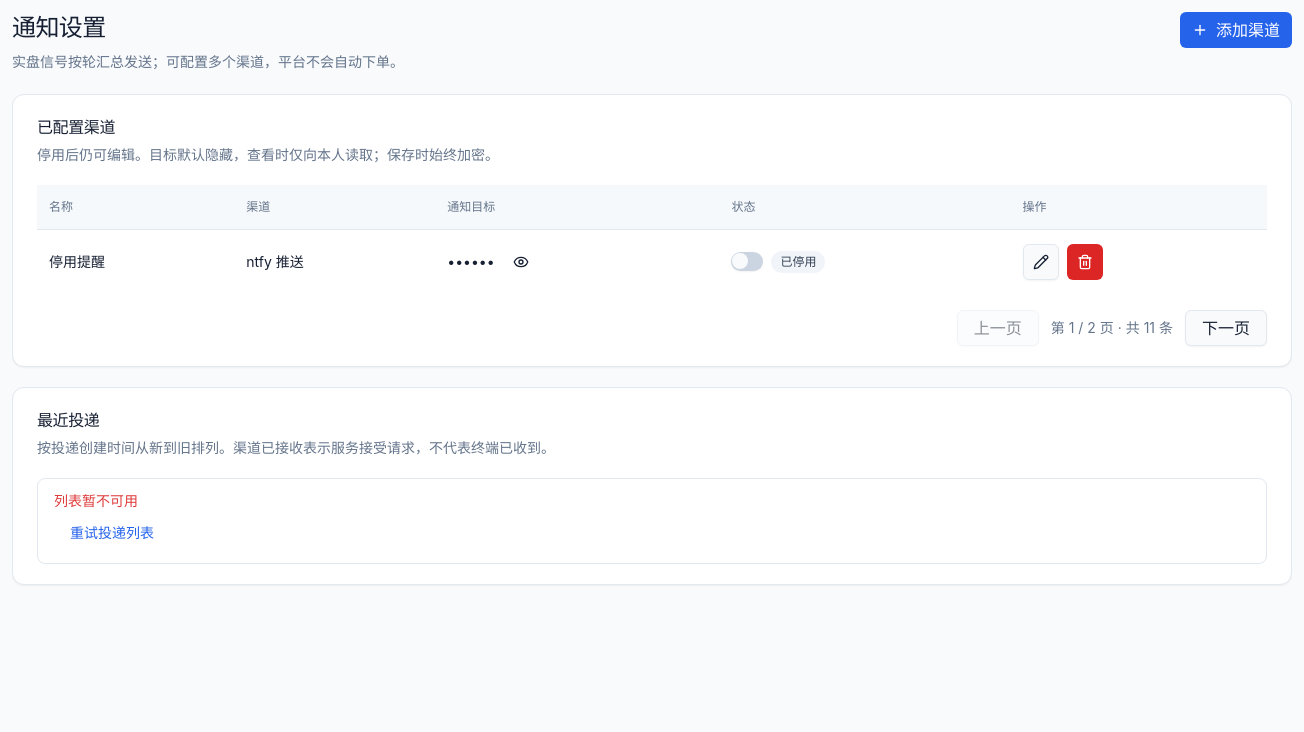
Test: 渠道和投递独立分页，目标按需显示再隐藏，读取失败可重试
expect the message shows "列表暂不可用": met, box [54, 492, 138, 508]
Step 1. Click the button "重试投递列表" → (112, 532), box [54, 514, 170, 550]
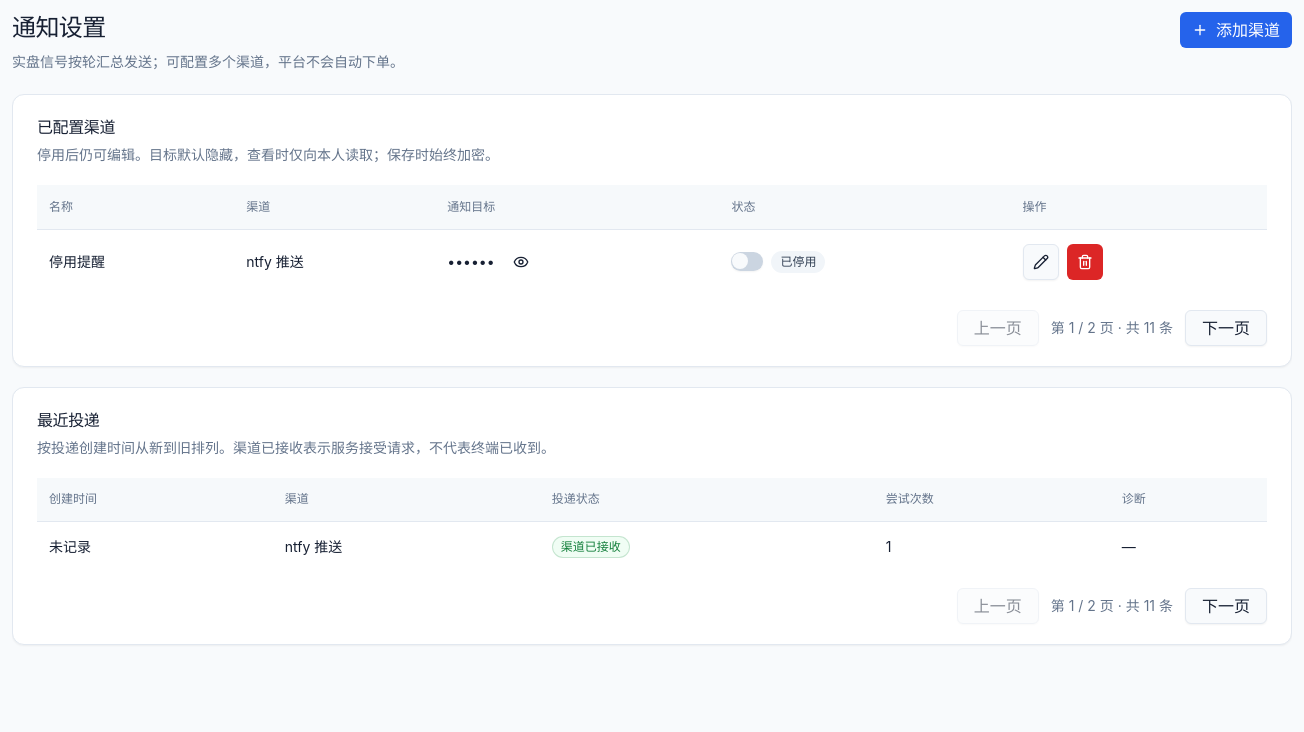
expect the text "渠道已接收" is shown: met, box [552, 536, 630, 558]
Step 2. Click the button named "显示通知目标 停用提醒" → (520, 262), box [502, 244, 538, 280]
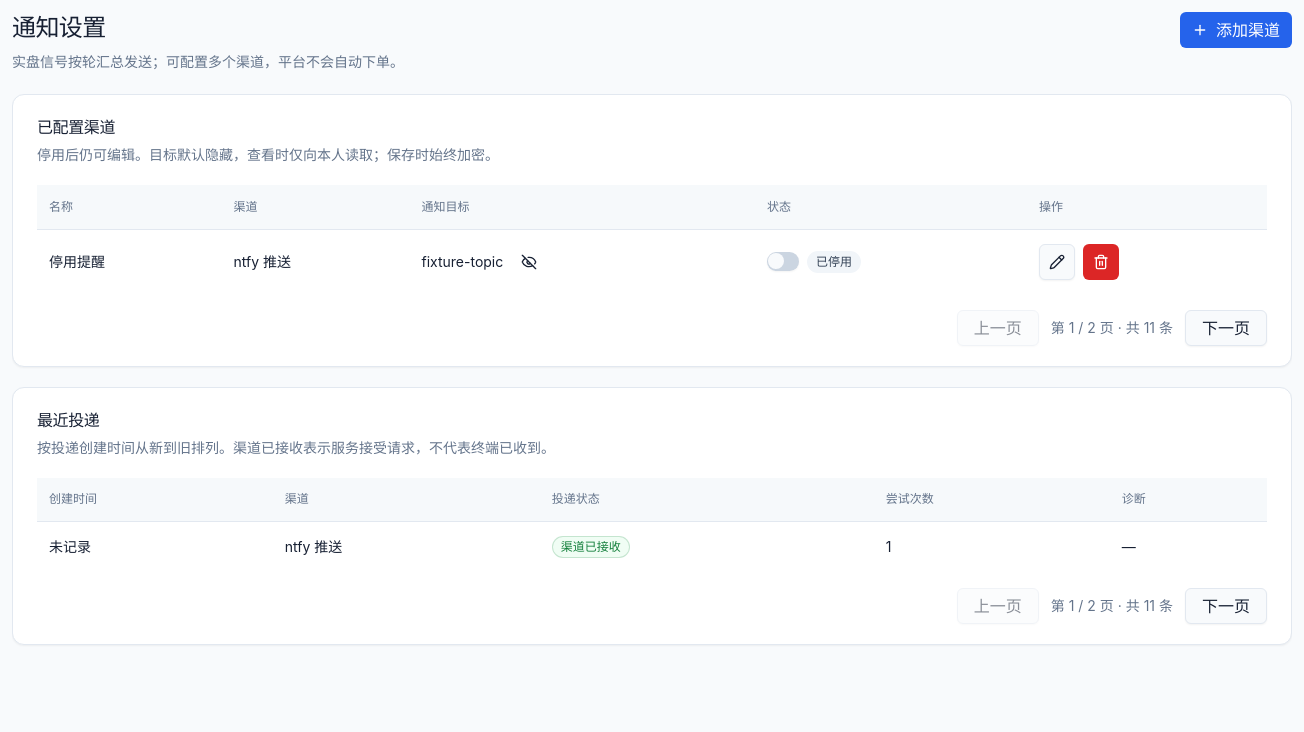
expect the text "fixture-topic" is shown: met, box [422, 252, 503, 272]
Step 3. Click the button named "隐藏通知目标 停用提醒" → (529, 262), box [511, 244, 547, 280]
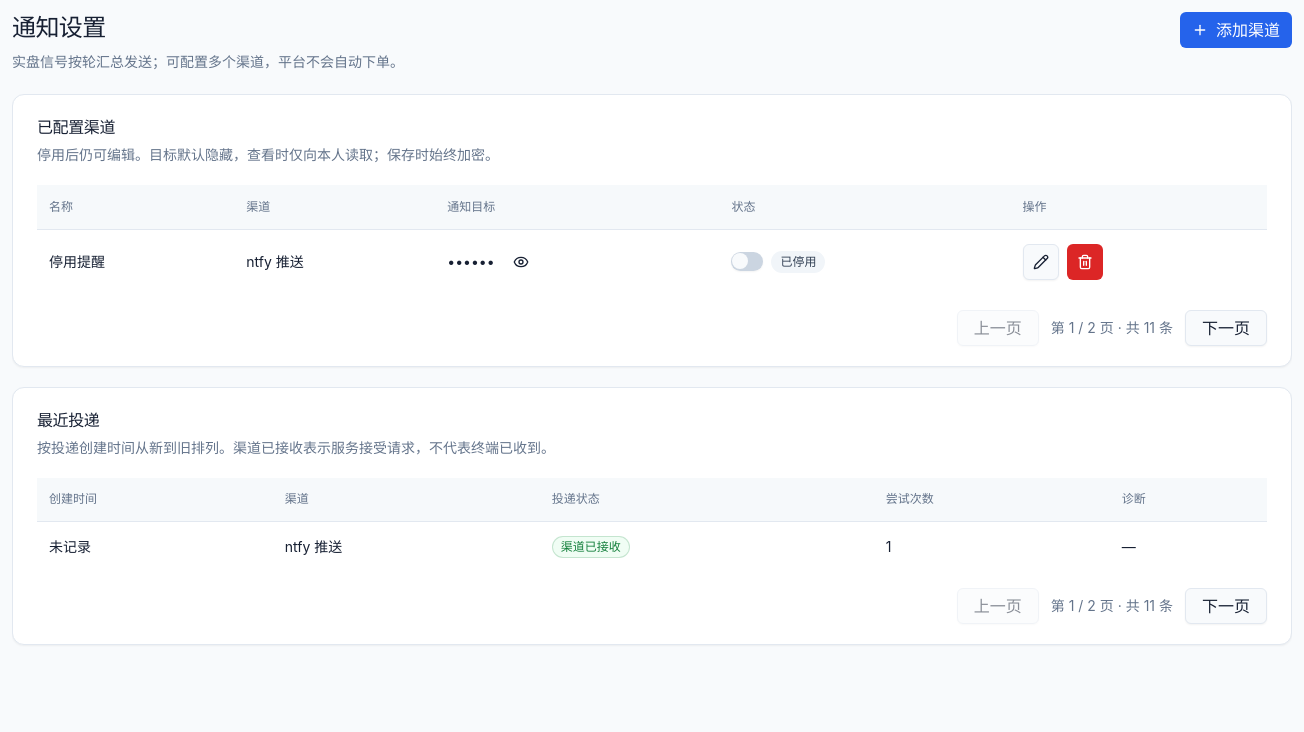
expect the text "fixture-topic" is gone: met
Step 4. Click the button "下一页" below "操作" → (1226, 328), box [1185, 310, 1267, 346]
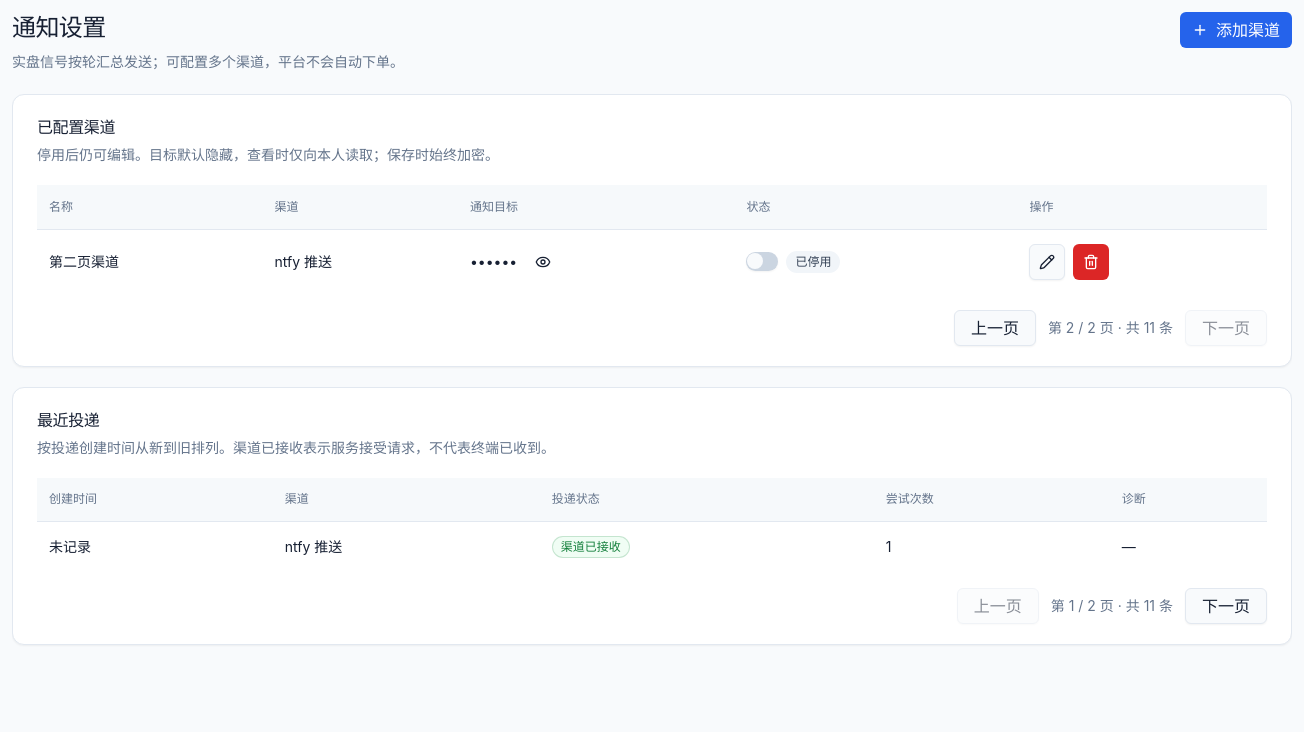
expect the button named "编辑渠道 第二页渠道" is shown: met, box [1030, 244, 1066, 280]
Step 5. Click the button "下一页" below "尝试次数" → (1226, 606), box [1185, 588, 1267, 624]
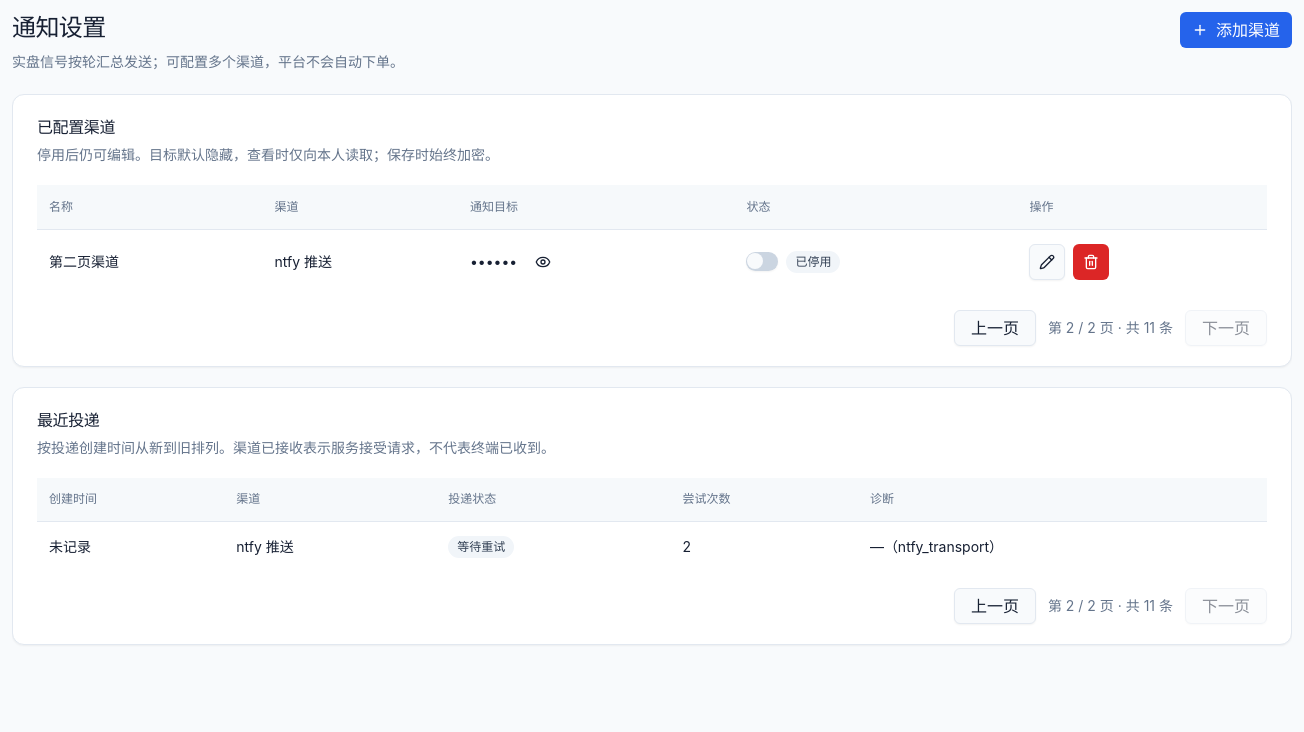
expect the text "—（ntfy_transport）" is shown: met, box [858, 522, 1267, 572]
